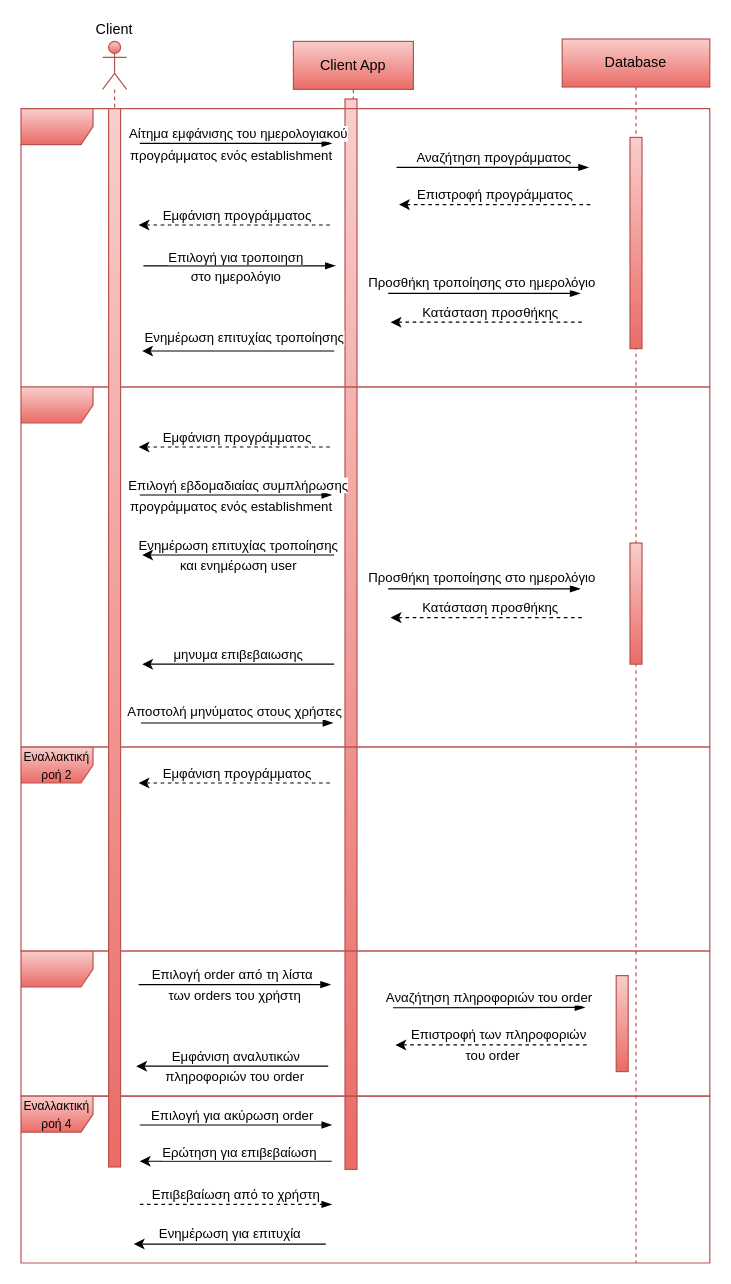
Some shapes in this 731 by 1284 pixel diagram are drawn without their labels. The shapes that lost their labels are listed below. From the top down, each one's centre as x and y in pixels, then its label:
At point 365,247: "Βασική ροή".
At point 365,566: "Εναλλακτική ροή 1".
At point 365,1023: "Εναλλακτική ροή 3".
